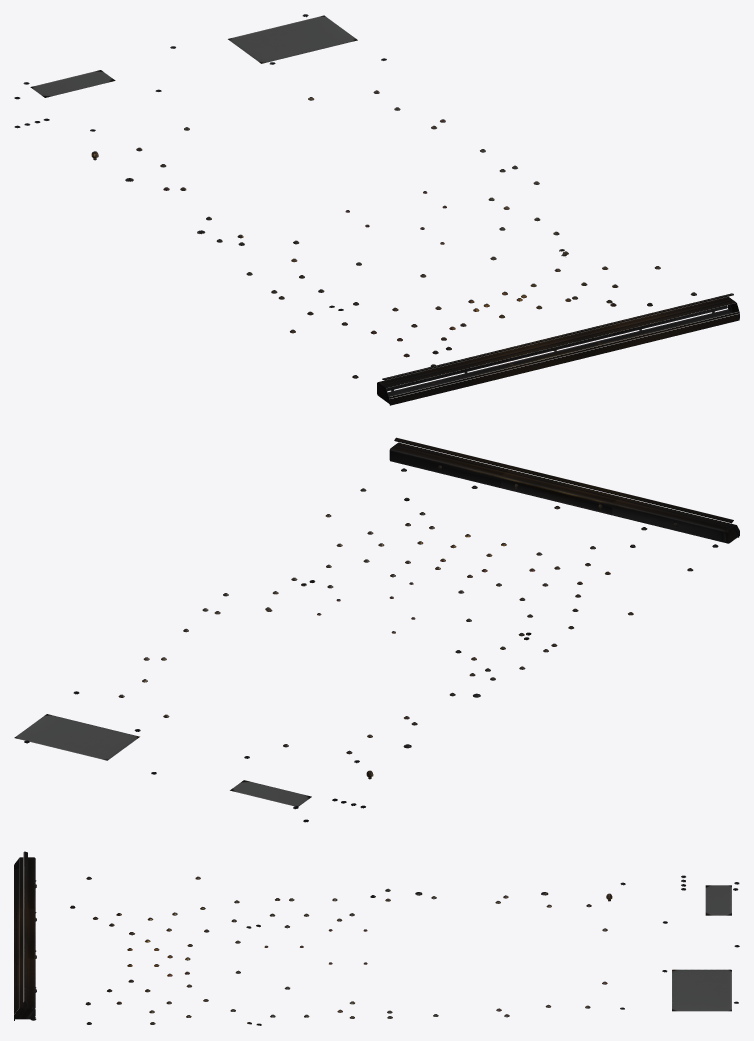
The picture shows the model from 3 angles, top to bottom: view 1: azimuth 30°, elevation 25°; view 2: azimuth 150°, elevation 25°; view 3: azimuth 270°, elevation 25°; orthographic projection. The views are drawn at different scales.
Visible parts, largest first — view 1: layer4; view 2: layer4; view 3: layer4.
Part boxes in pixels (x1,y1,x2,y2): layer4: [14, 14, 739, 405]; layer4: [14, 437, 739, 822]; layer4: [14, 851, 739, 1025].
Size of the model in its own units: 51.29 by 6.41 by 105.
1 material, 1 textured.
